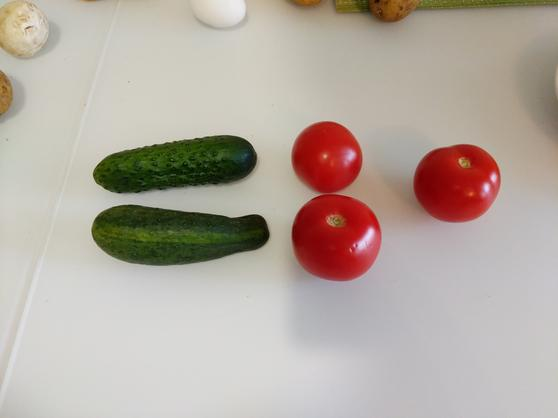champignon: (1, 2, 51, 59)
cucumber: (91, 204, 270, 267), (90, 134, 257, 195)
egg: (190, 1, 248, 28)
tomato: (290, 193, 381, 280), (413, 143, 500, 223), (292, 120, 364, 193)
